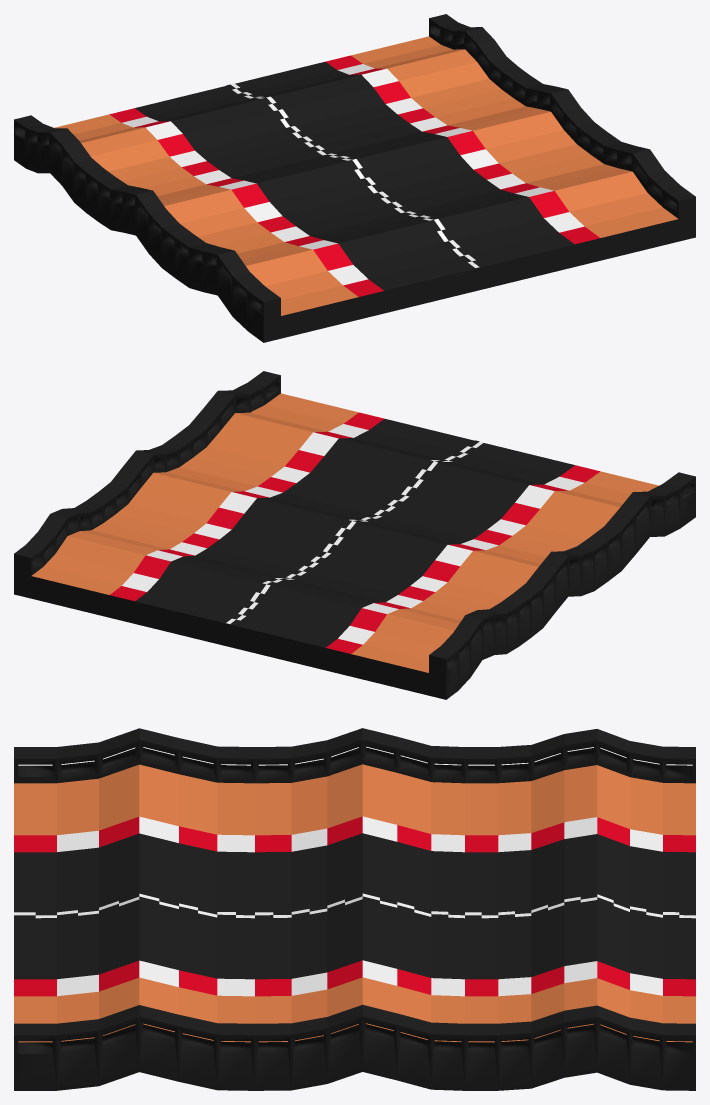
The model's file is ModularTrackBumpyStraight-Deux.fbx.
3 views of the same model, one above another, from view 1: azimuth 30°, elevation 25°; view 2: azimuth 150°, elevation 25°; view 3: azimuth 270°, elevation 25° (orthographic). The views are drawn at different scales.
Parts seen in each view (by area): view 1: ModularTrackBumpyStraight, LaneDivider; view 2: ModularTrackBumpyStraight, LaneDivider; view 3: ModularTrackBumpyStraight, LaneDivider.
Boxes of the visible parts, x1,y1,x2,y2 form: ModularTrackBumpyStraight: (14,14,695,342); LaneDivider: (226,83,483,267); ModularTrackBumpyStraight: (14,371,695,699); LaneDivider: (226,440,483,624); ModularTrackBumpyStraight: (14,728,695,1090); LaneDivider: (14,893,695,918).
Size of the model in its own units: 1000 by 121 by 1000.
